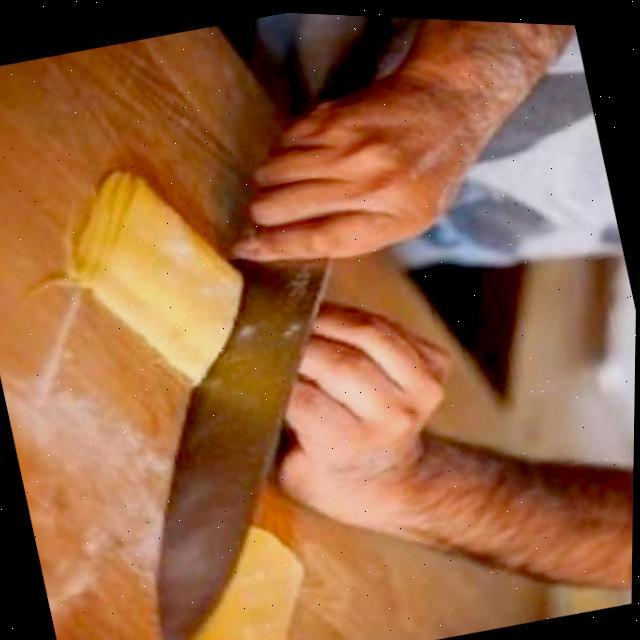knife: (81, 234, 412, 640)
